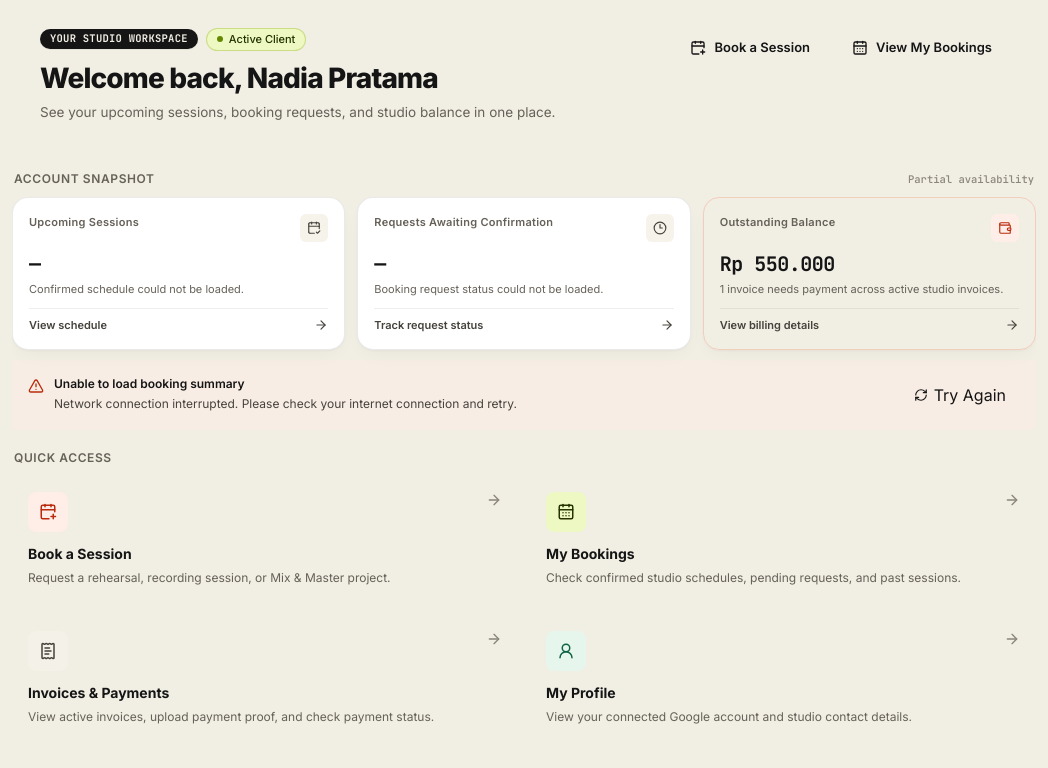
Test case: Client Portal Overview — Account Snapshot, Real Billing, Next Session, Activity & Navigation › handles independent loading, independent failures, combined failures, and retry recovery without flashing false zeros
Later steps or results of the test are not shown.
Check: the message with test id "client-overview-booking-error" is shown, box left=12, top=360, right=1036, bottom=430
Check: the 1st text "—" is shown, box left=29, top=251, right=40, bottom=277
Step 1. Click the button with aria-label "Retry loading bookings" → click(960, 395), box left=900, top=377, right=1020, bottom=413
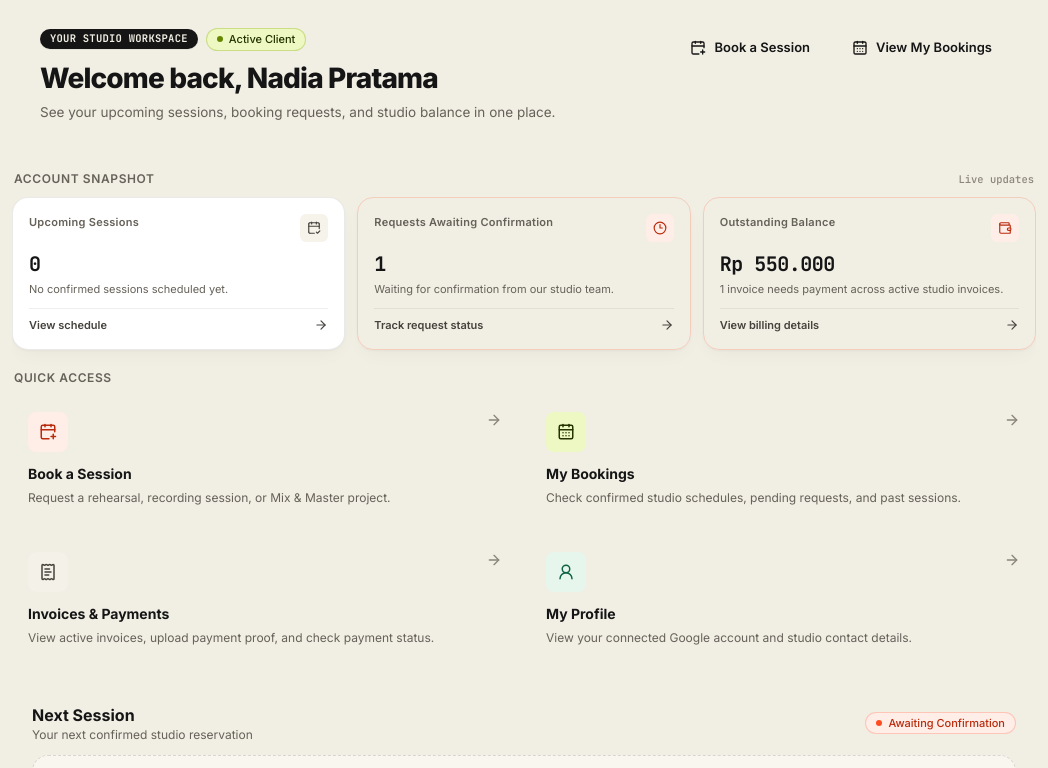
Check: the text "1" is shown, box left=374, top=251, right=386, bottom=277
Check: the message with test id "client-overview-booking-error" is gone
